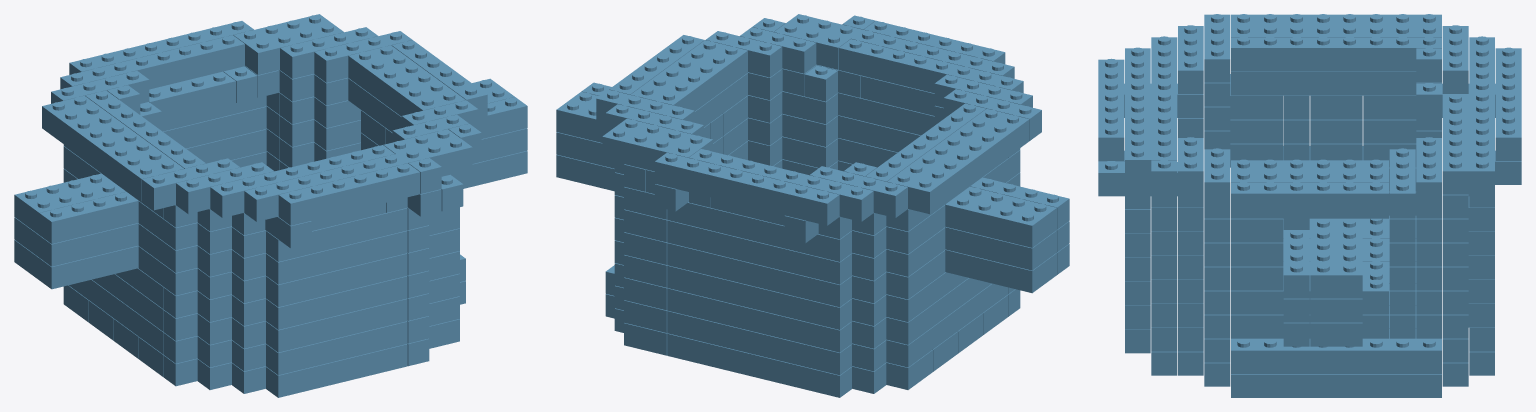
The model's file is collab_pot-L5V2_raw.glb.
3 views of the same model, side by side, from view 1: azimuth 30°, elevation 25°; view 2: azimuth 150°, elevation 25°; view 3: azimuth 270°, elevation 25° (orthographic). The views are drawn at different scales.
Bounding box in the file's own units: 21.98 × 9.13 × 15.98.
